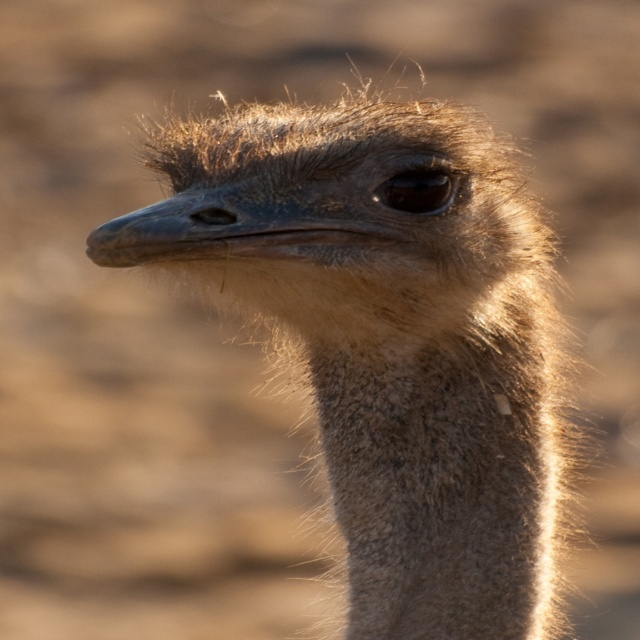Ostrich: (88, 95, 571, 640)
